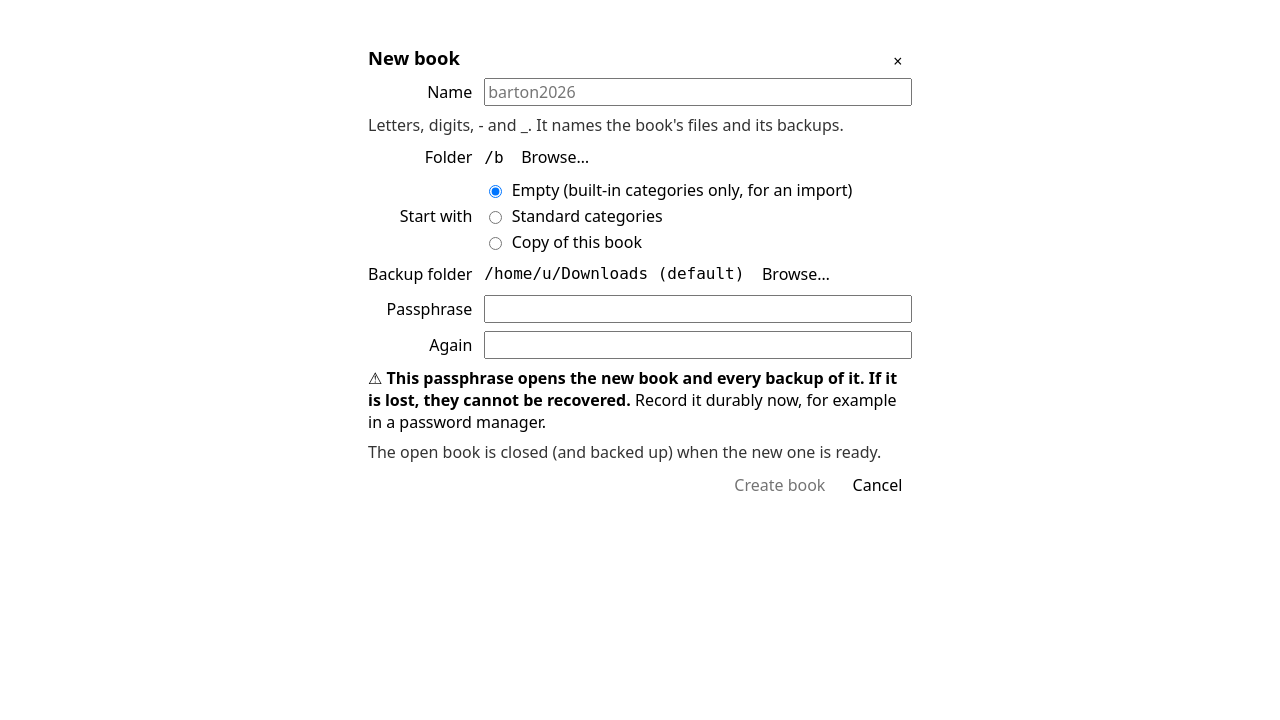
Test: NewBookModal (UI-085) › a bad carry date blocks Create; Zero needs no date
In the field named "Name": (698, 92) x1=484 y1=78 x2=912 y2=106, type "fresh"
In the 1st password field named "Passphrase": (698, 309) x1=484 y1=295 x2=912 y2=323, type "p"
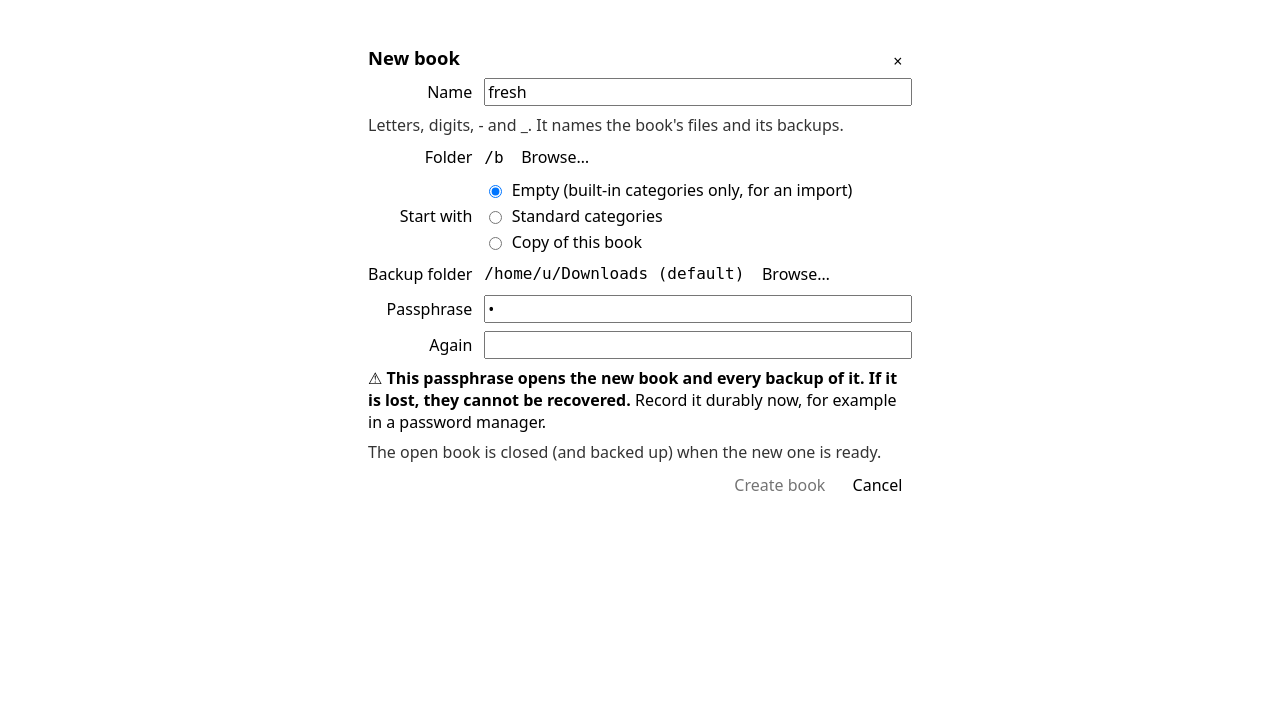
In the password field named "Again" next to "Again": (698, 345) x1=484 y1=331 x2=912 y2=359, type "p"
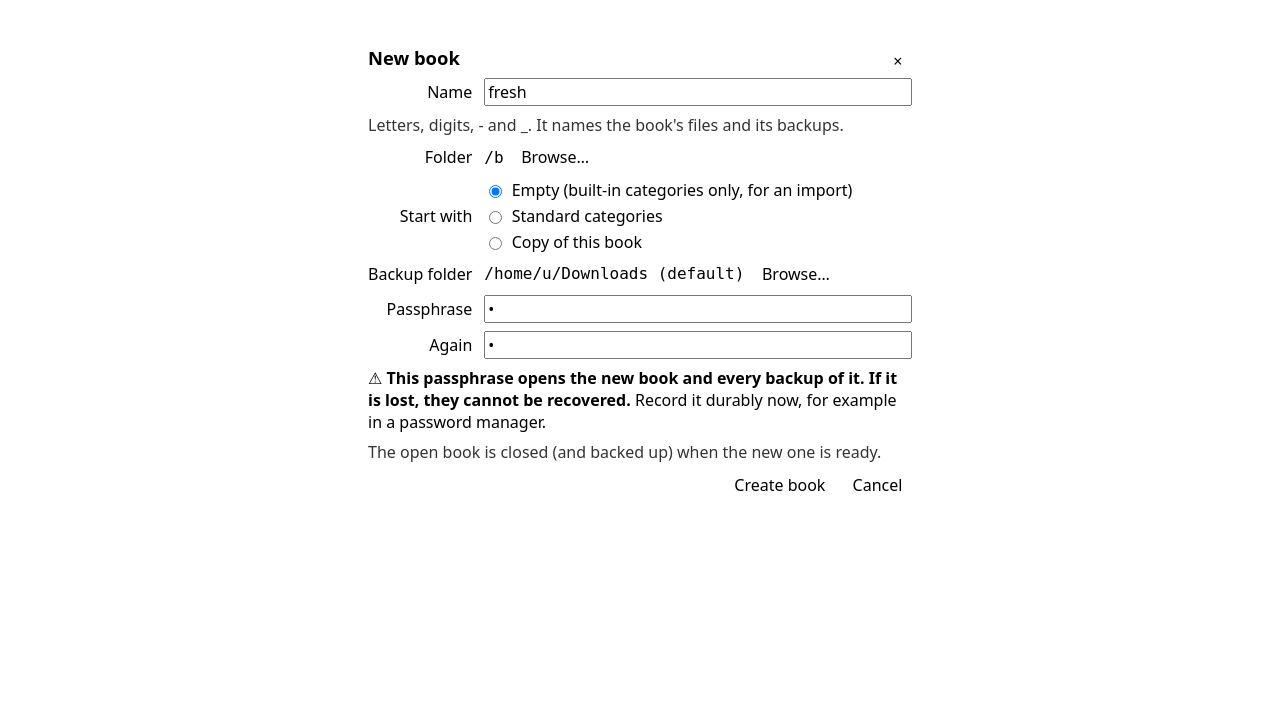
Click the radio button labelled "Copy of this book": click(496, 243) x1=489 y1=237 x2=502 y2=250
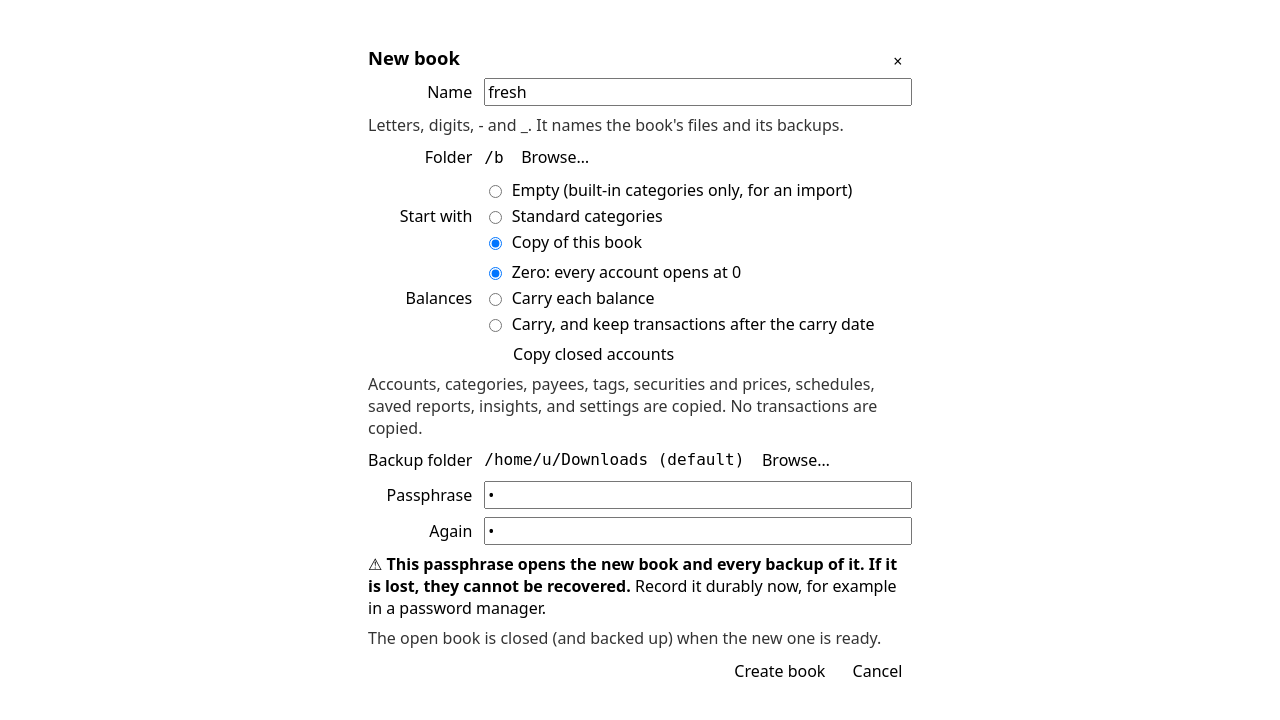
Click the radio button labelled "Carry each balance": click(496, 299) x1=489 y1=293 x2=502 y2=306
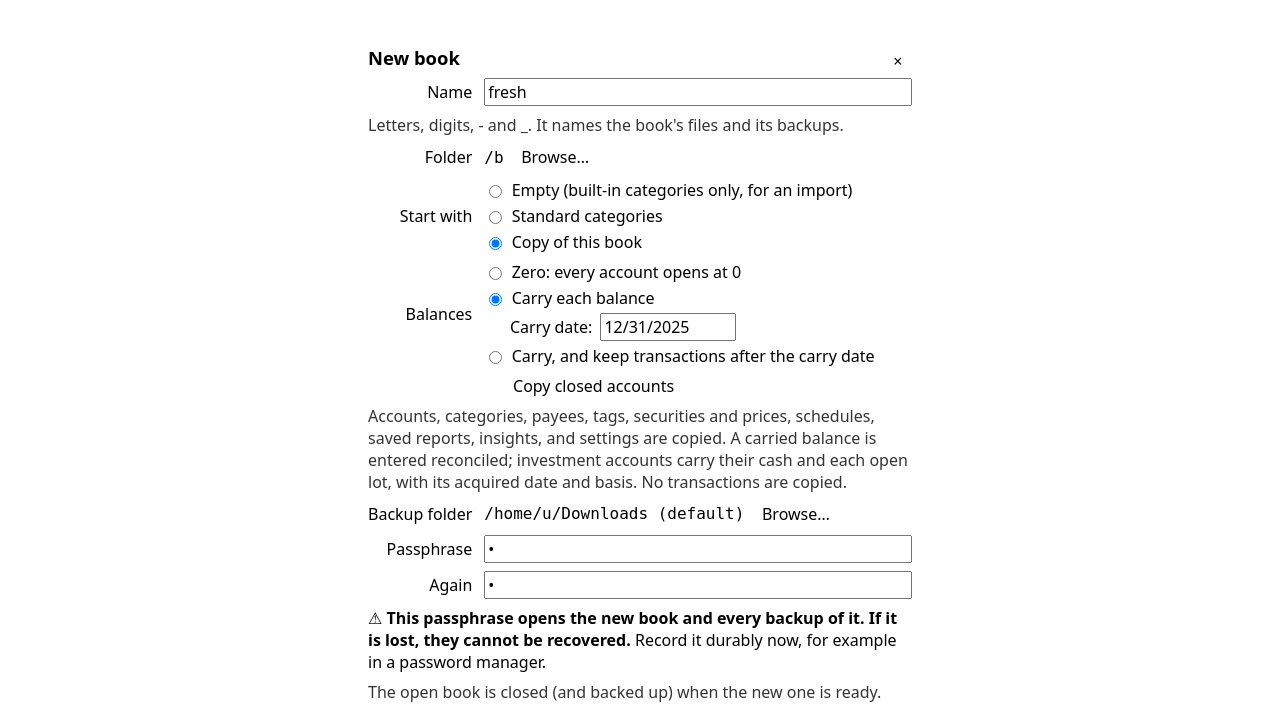
Replace the text in the field named "Carry date" with "abc": (668, 327) x1=600 y1=313 x2=736 y2=341
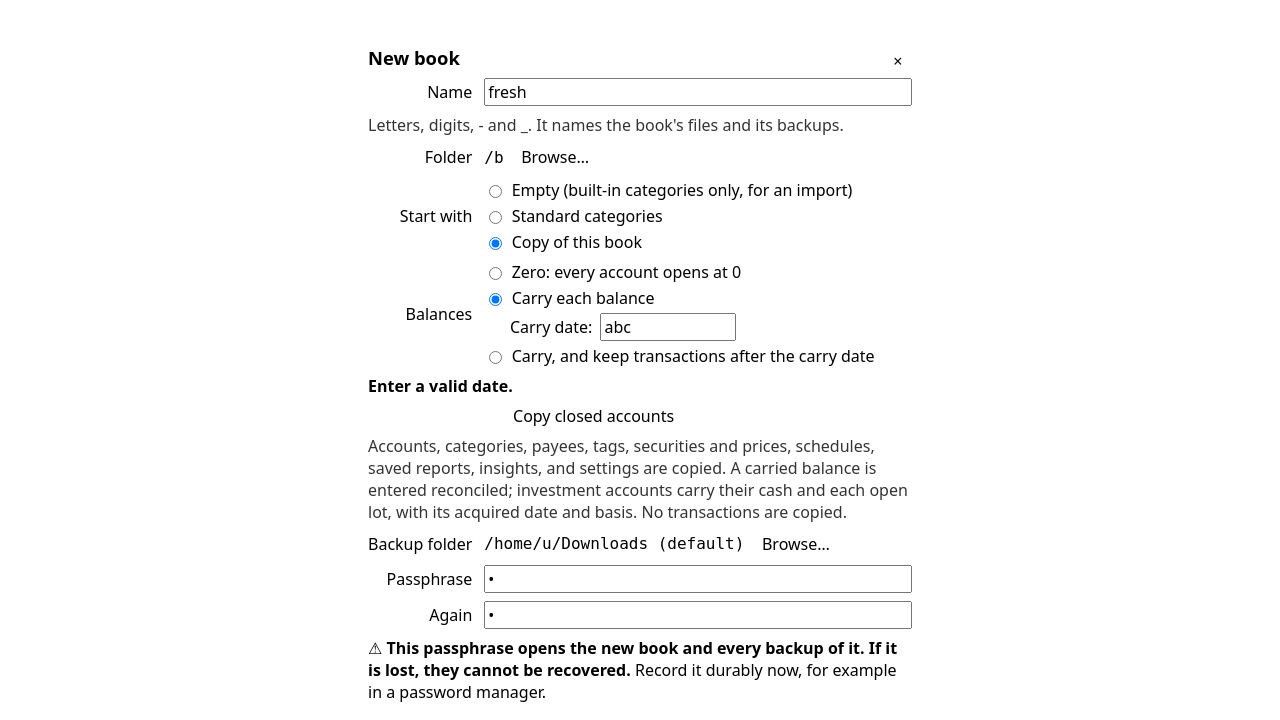
Click the radio button labelled "Zero: every account opens at 0": click(496, 273) x1=489 y1=267 x2=502 y2=280
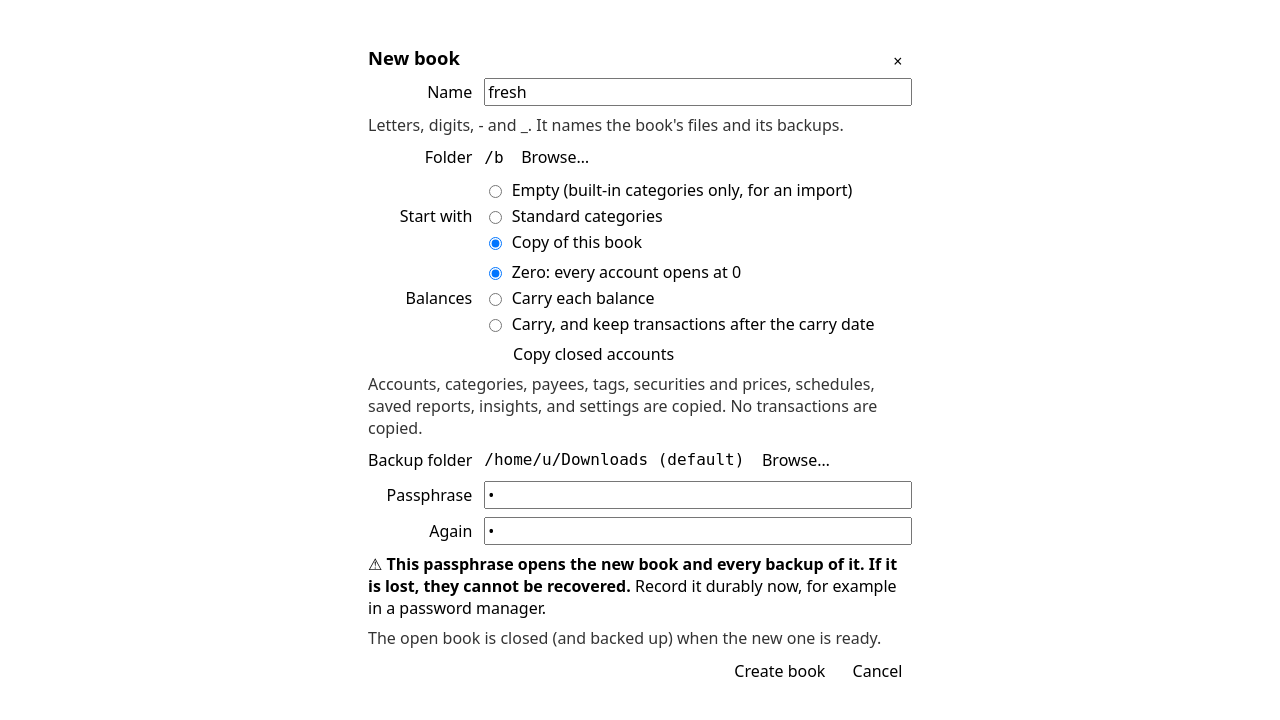
Check: the button "Create book" is enabled, box x1=725 y1=657 x2=835 y2=684
